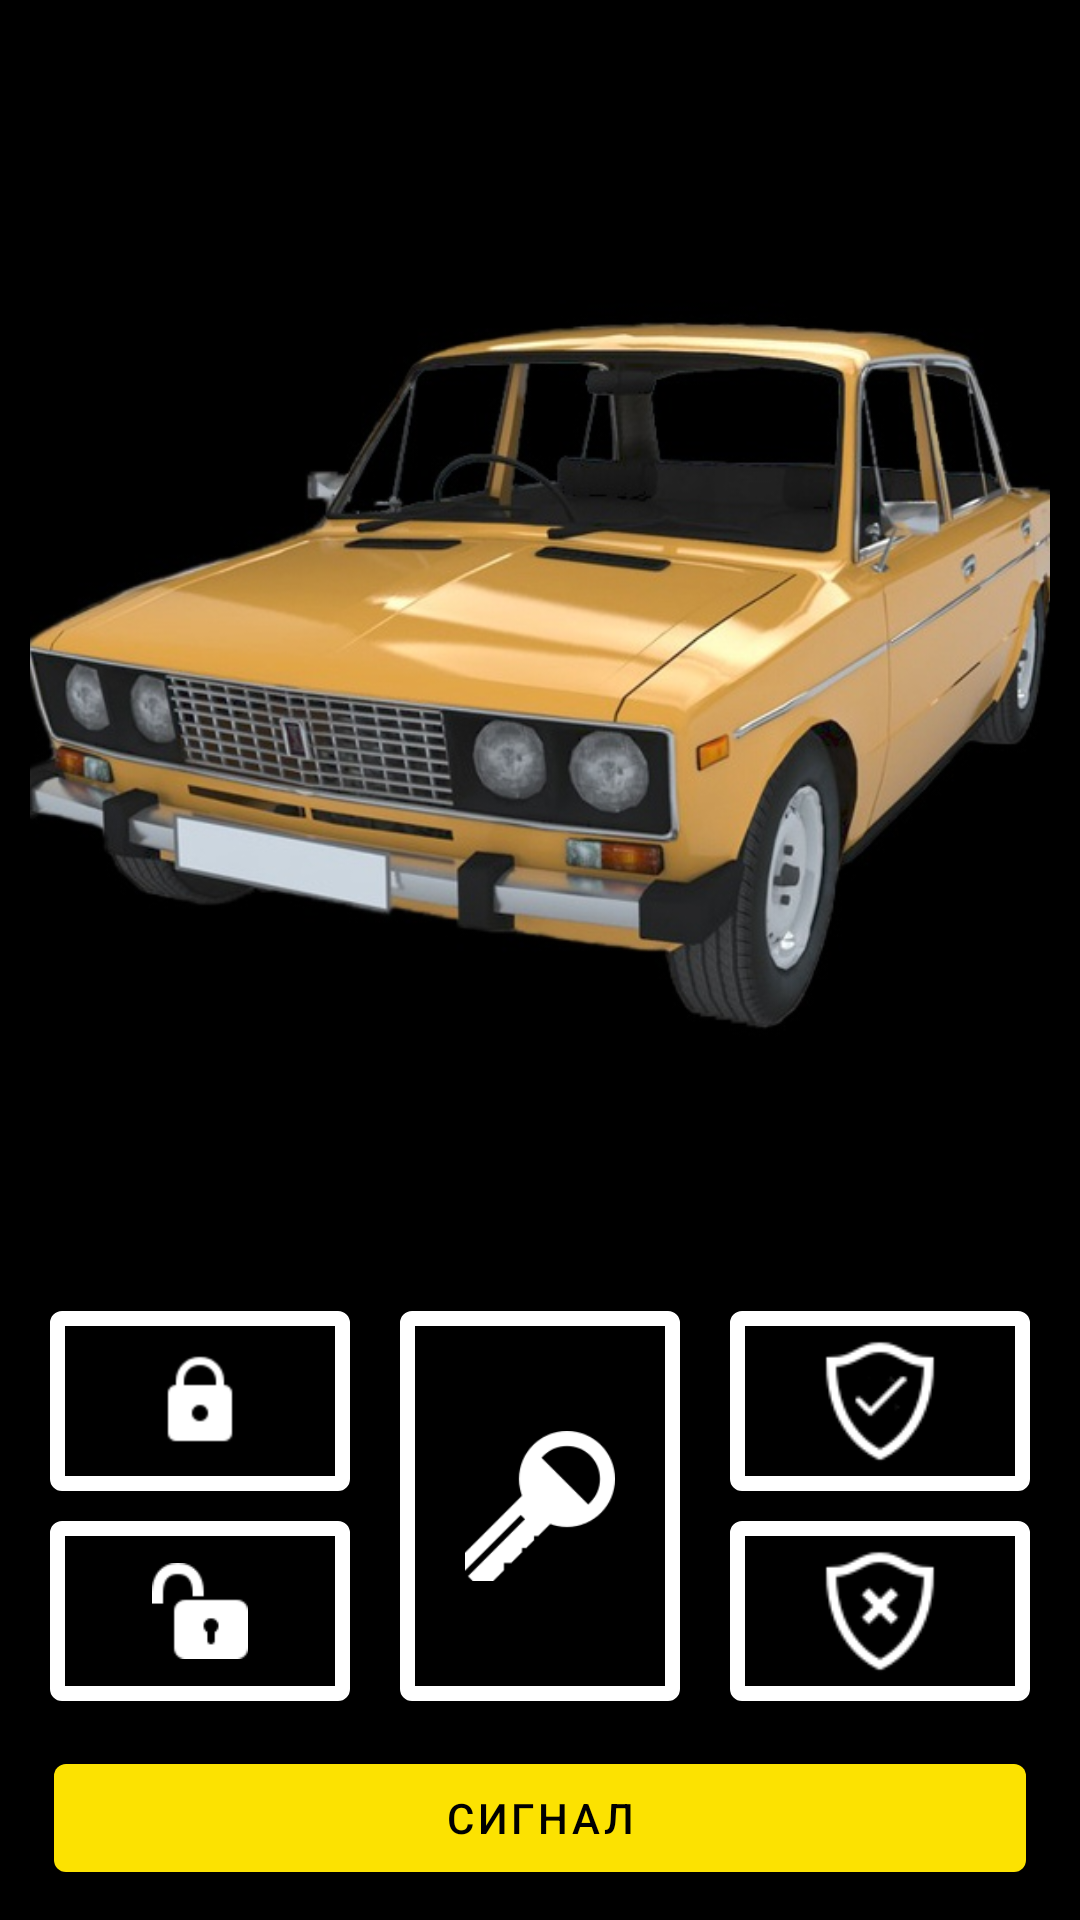

Icon click points for this 1080×1920 phone screenshot, format (x=x, y=y):
delete shield: (x=880, y=1611)
